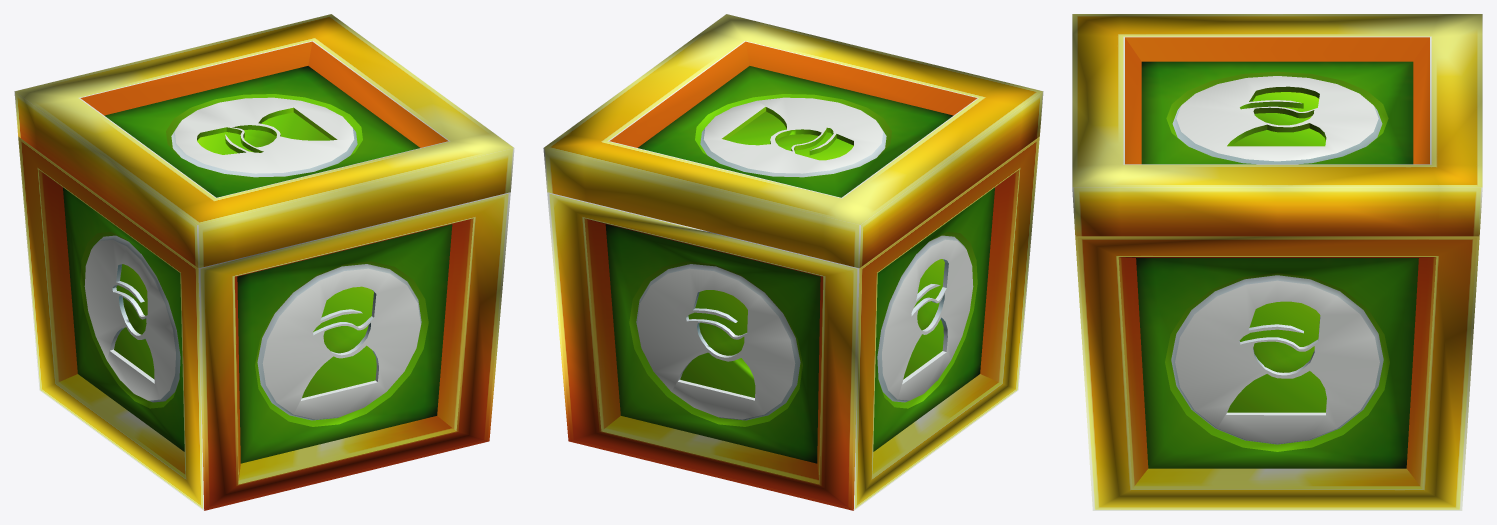
Rendered from WeeklyHuntTokenMysteryBoxIcon.glb.
The picture shows the model from 3 angles, left to right: view 1: azimuth 30°, elevation 25°; view 2: azimuth 150°, elevation 25°; view 3: azimuth 270°, elevation 25°; orthographic projection. The views are drawn at different scales.
Parts seen in each view (by area): view 1: model; view 2: model; view 3: model.
Boxes of the visible parts, x1=… form: model: x1=14, y1=14, x2=514, y2=510; model: x1=543, y1=14, x2=1043, y2=510; model: x1=1072, y1=14, x2=1482, y2=510.
Size of the model in its own units: 8.95 by 7.99 by 8.95.
Materials: 1 (1 with a texture image).
